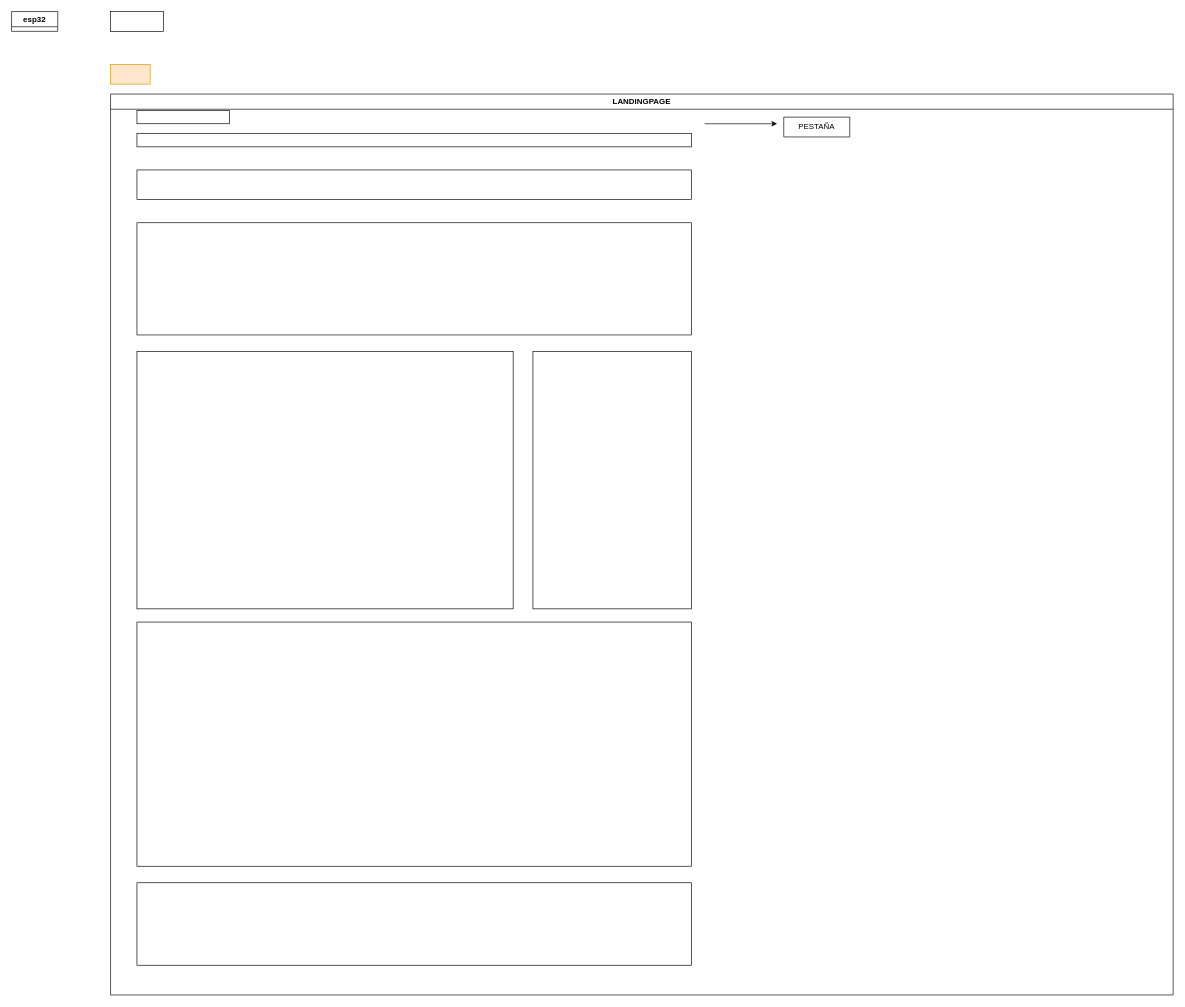
This 1185x1007 diagram has some shape labels left out. Here are the shapes that lost their labels. From the top down, the centre of each, then its label:
At [136,21]: "LPLANT".
At [130,74]: "LANDING PAGE".
